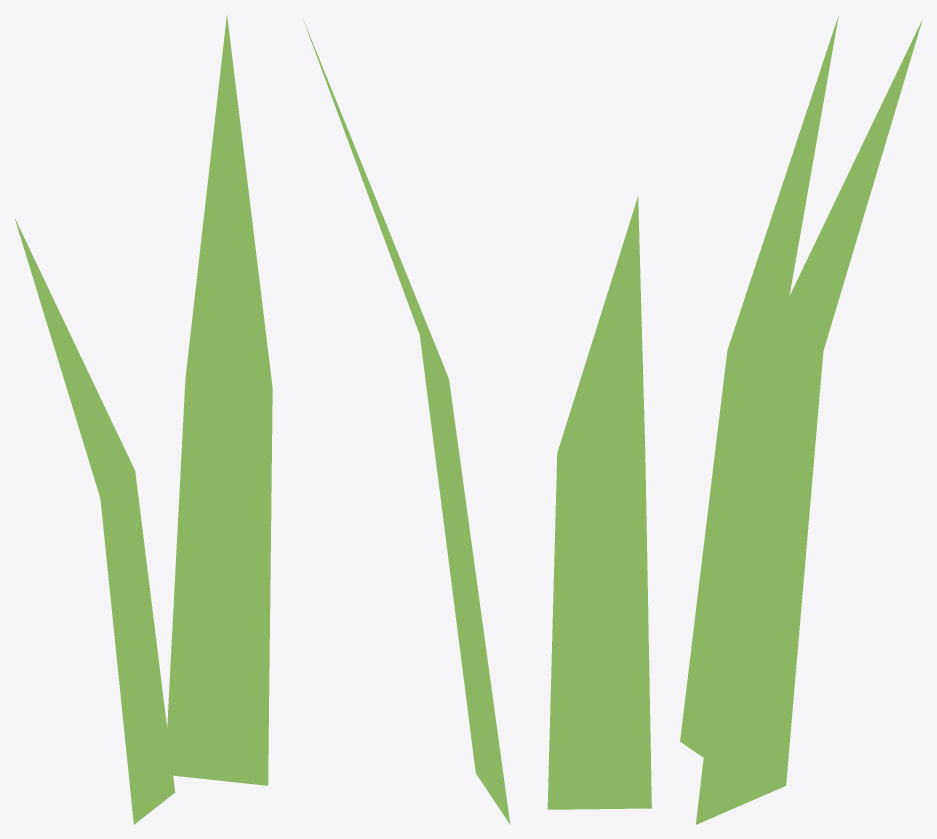
Rendered from Grass_a_OneS_01.fbx.
3 views of the same model, side by side, from view 1: azimuth 30°, elevation 25°; view 2: azimuth 150°, elevation 25°; view 3: azimuth 270°, elevation 25° (orthographic). The views are drawn at different scales.
Parts seen in each view (by area): view 1: Grass_a_OneS_01; view 2: Grass_a_OneS_01; view 3: Grass_a_OneS_01.
Boxes of the visible parts, x1,y1,x2,y2 form: Grass_a_OneS_01: [14, 15, 272, 824]; Grass_a_OneS_01: [303, 19, 651, 824]; Grass_a_OneS_01: [680, 16, 922, 824].
Bounding box in the file's own units: 0.2245 × 0.5989 × 0.1574.
